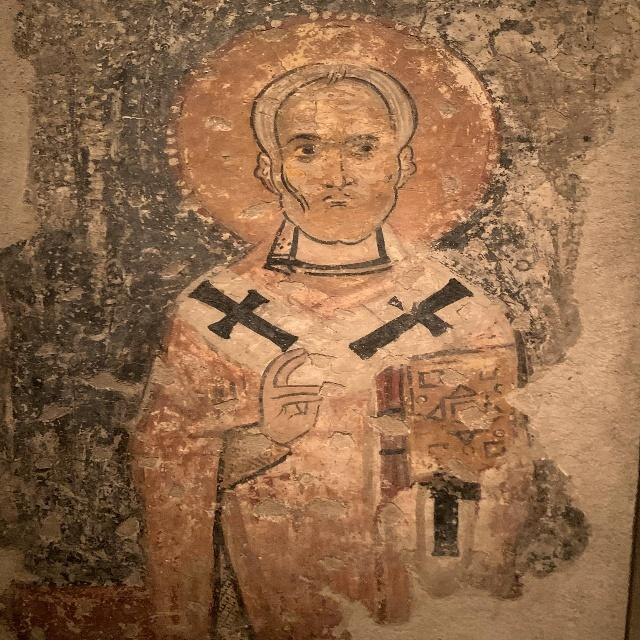aura: (145, 9, 525, 255)
book: (375, 361, 535, 483)
cross: (345, 279, 478, 359), (185, 276, 307, 350)
saint: (164, 16, 561, 638)
